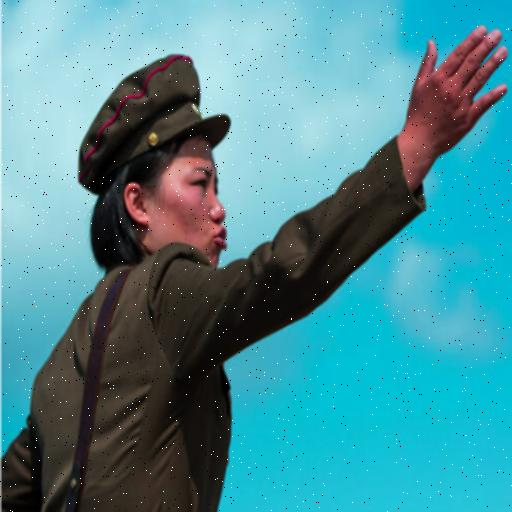north army: (7, 34, 449, 506)
